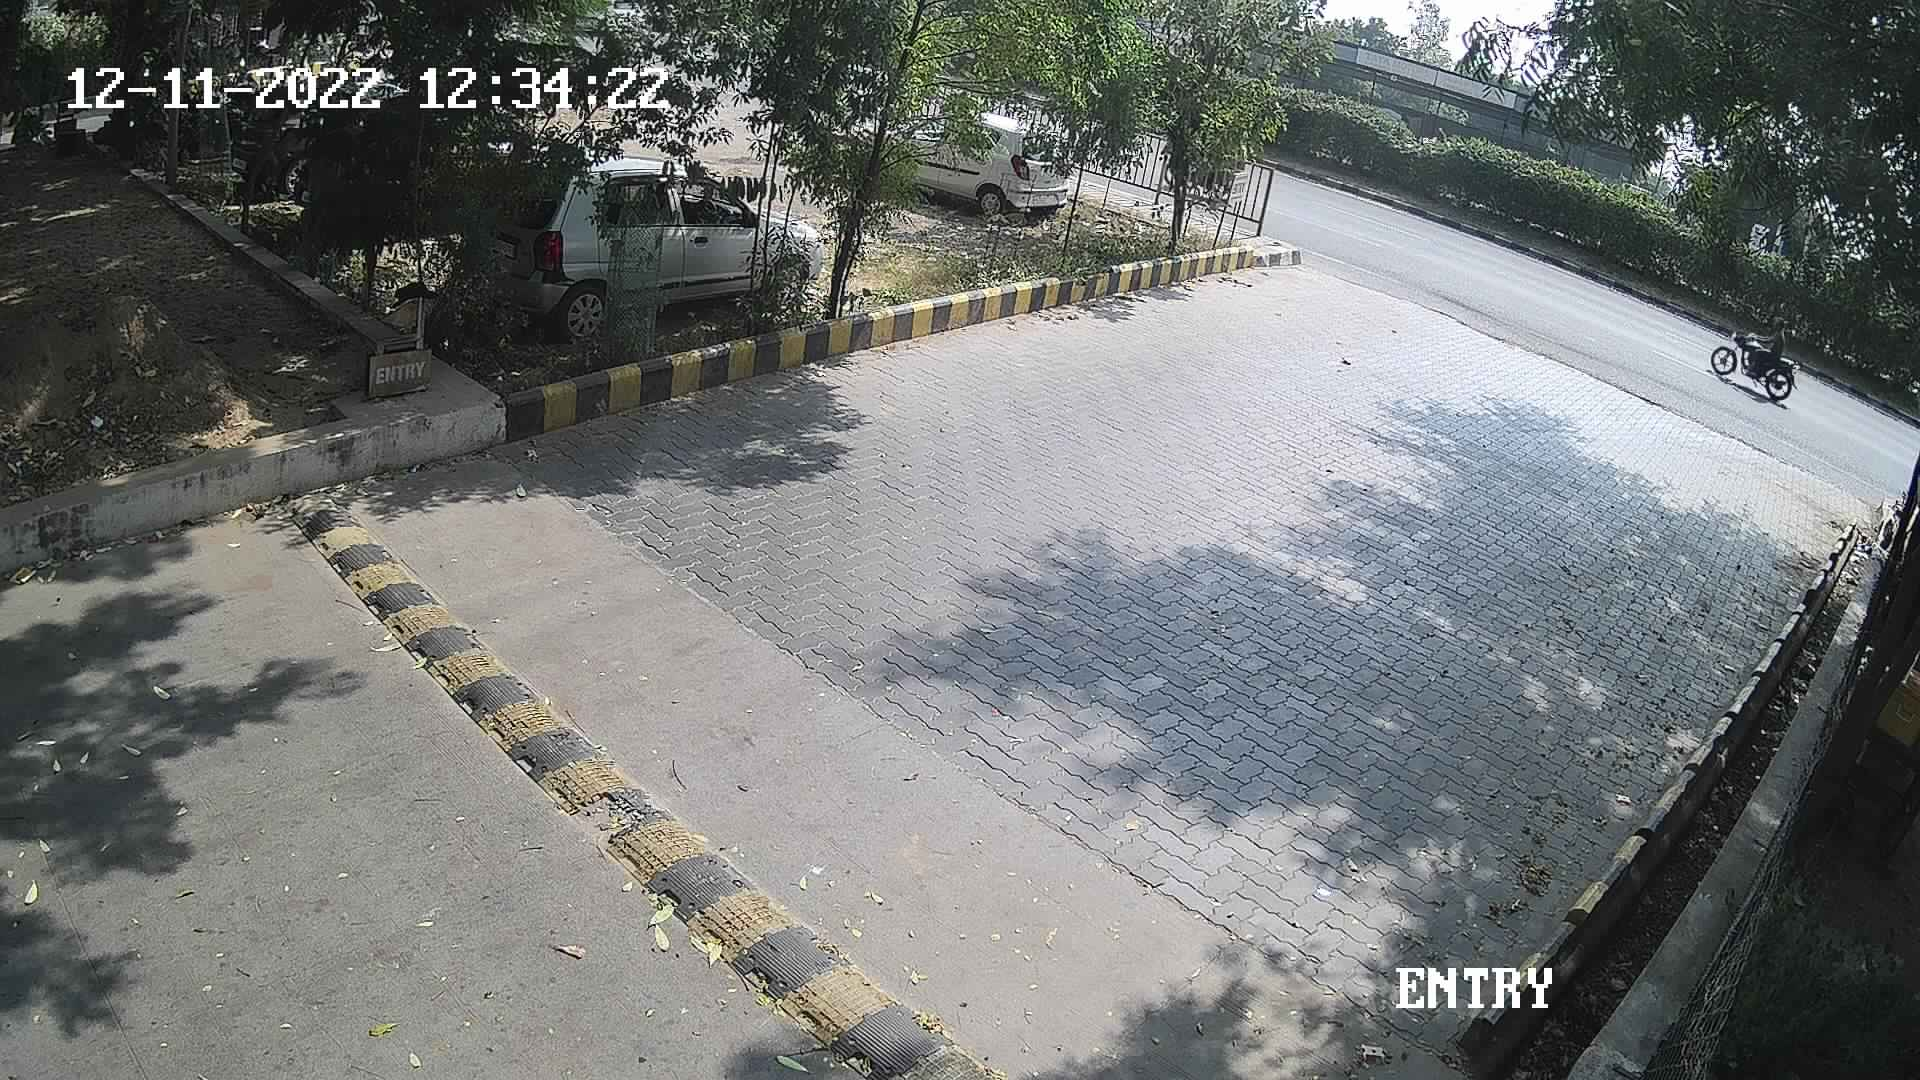Bike: (1698, 313, 1808, 414)
Car: (439, 146, 827, 345), (841, 102, 1085, 222)
